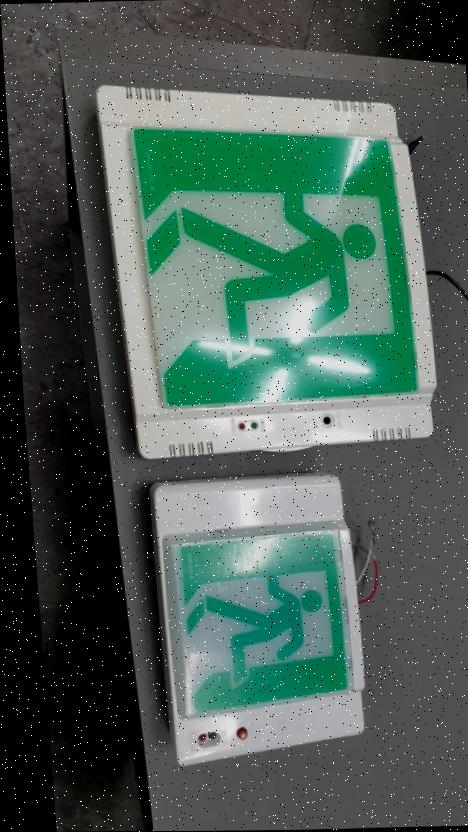emergency_exit: (96, 85, 438, 458), (149, 473, 367, 767)
